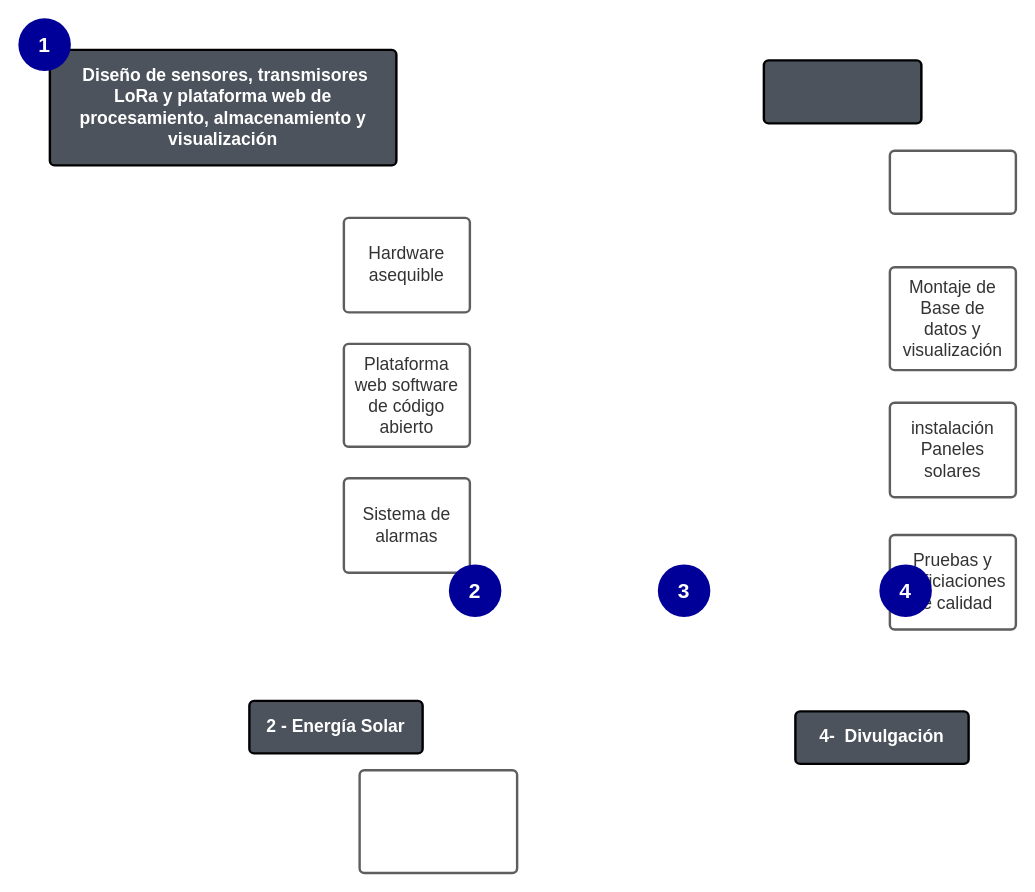
This 1035x892 diagram has some shape labels left out. Here are the shapes that lost their labels. From the top down, the centre of each, then its label:
At [842,91]: "3 - Construir e instalar".
At [952,181]: "Consrucción de equipos".
At [438,821]: "Diseño de sisteme energía solar económico".
